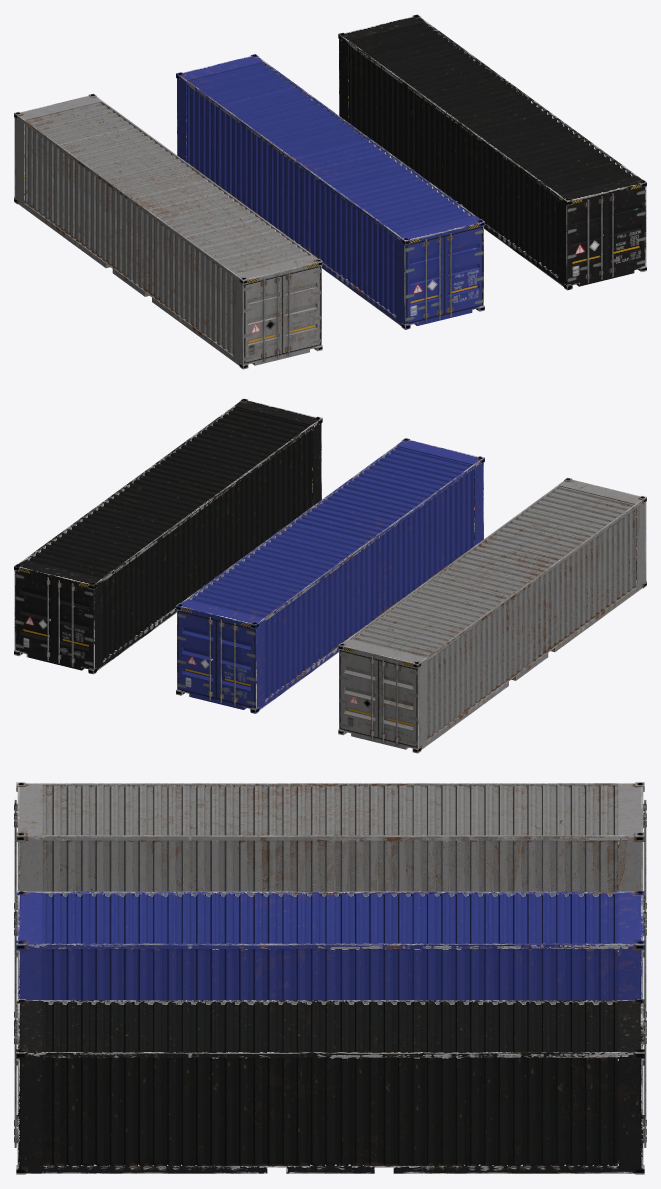
File: containers.glb
3 views of the same model, one above another, from view 1: azimuth 30°, elevation 25°; view 2: azimuth 150°, elevation 25°; view 3: azimuth 270°, elevation 25° (orthographic). The views are drawn at different scales.
Parts seen in each view (by area): view 1: Container.013_13, Container.011_11, Container.012_12; view 2: Container.013_13, Container.011_11, Container.012_12; view 3: Container.011_11, Container.012_12, Container.013_13.
Boxes of the visible parts, x1=… form: Container.013_13: x1=14, y1=93, x2=322, y2=369; Container.011_11: x1=338, y1=14, x2=646, y2=290; Container.012_12: x1=176, y1=54, x2=484, y2=329; Container.013_13: x1=338, y1=477, x2=646, y2=753; Container.011_11: x1=14, y1=398, x2=322, y2=674; Container.012_12: x1=176, y1=438, x2=484, y2=713; Container.011_11: x1=14, y1=999, x2=646, y2=1174; Container.012_12: x1=14, y1=891, x2=646, y2=1065; Container.013_13: x1=14, y1=782, x2=646, y2=957.
Size of the model in its own units: 12.46 by 2.62 by 12.33.
3 materials, 3 textured.
